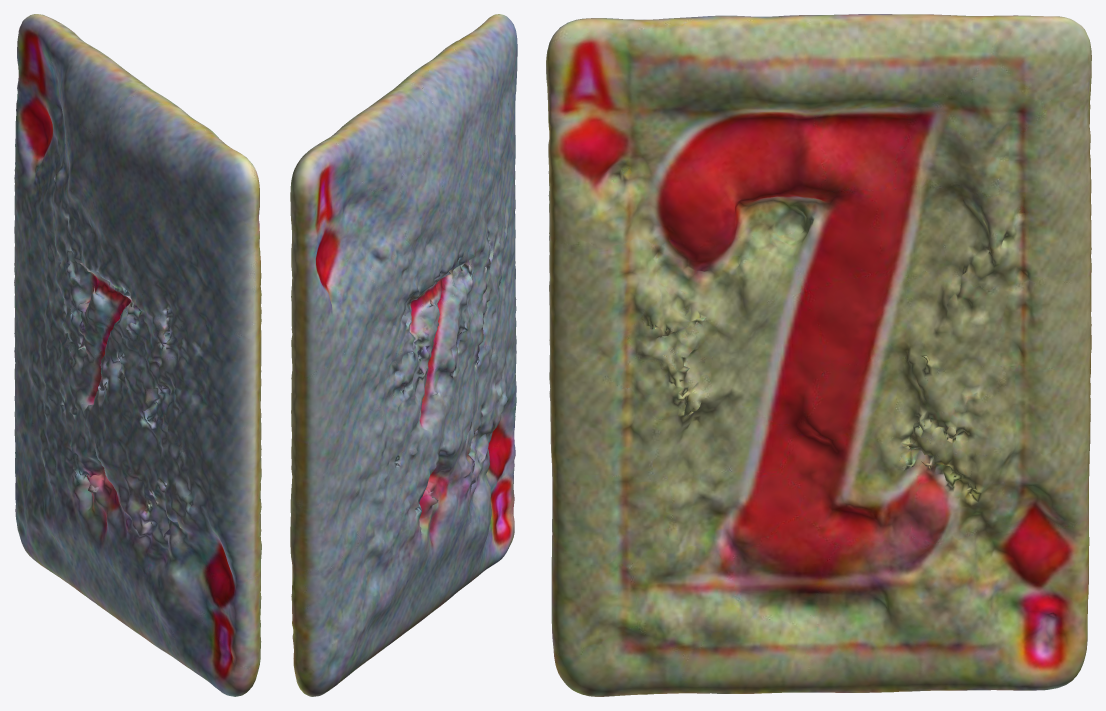
File: card_16.glb
3 views of the same model, side by side, from view 1: azimuth 30°, elevation 25°; view 2: azimuth 150°, elevation 25°; view 3: azimuth 270°, elevation 25° (orthographic). The views are drawn at different scales.
Parts seen in each view (by area): view 1: Mesh1; view 2: Mesh1; view 3: Mesh1.
Boxes of the visible parts, bbox=[...] form: Mesh1: bbox=[14, 14, 261, 696]; Mesh1: bbox=[290, 14, 517, 696]; Mesh1: bbox=[546, 14, 1091, 696].
Size of the model in its own units: 0.1707 by 1.2 by 0.8785.
Materials: 1 (1 with a texture image).
